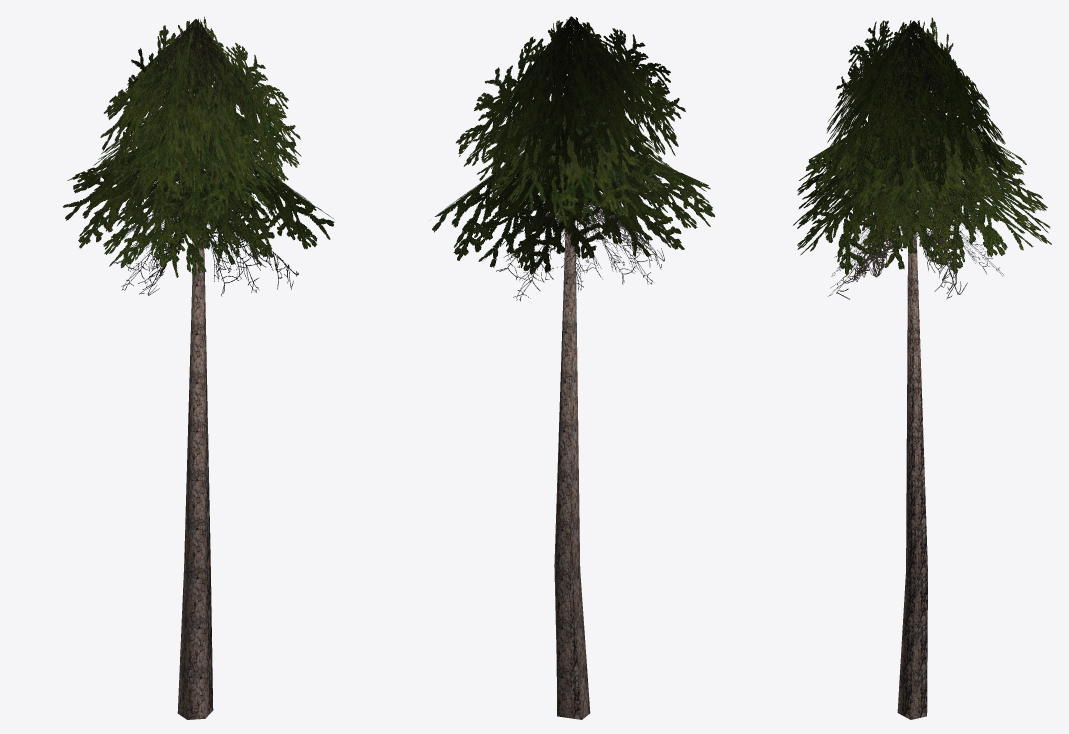
Rendered from NW_NATURE_HOHETANNE_MIDDLE_59P.glb.
3 renders of one model, left to right at view 1: azimuth 30°, elevation 25°; view 2: azimuth 150°, elevation 25°; view 3: azimuth 270°, elevation 25°, orthographic.
Parts seen in each view (by area): view 1: Mesh; view 2: Mesh; view 3: Mesh.
Part boxes in pixels (bbox=[...]): Mesh: bbox=[63, 16, 334, 719]; Mesh: bbox=[432, 16, 714, 719]; Mesh: bbox=[793, 17, 1051, 719].
Bounding box in the file's own units: 7.71 × 20.26 × 7.34.
Materials: 3 (3 with a texture image).
